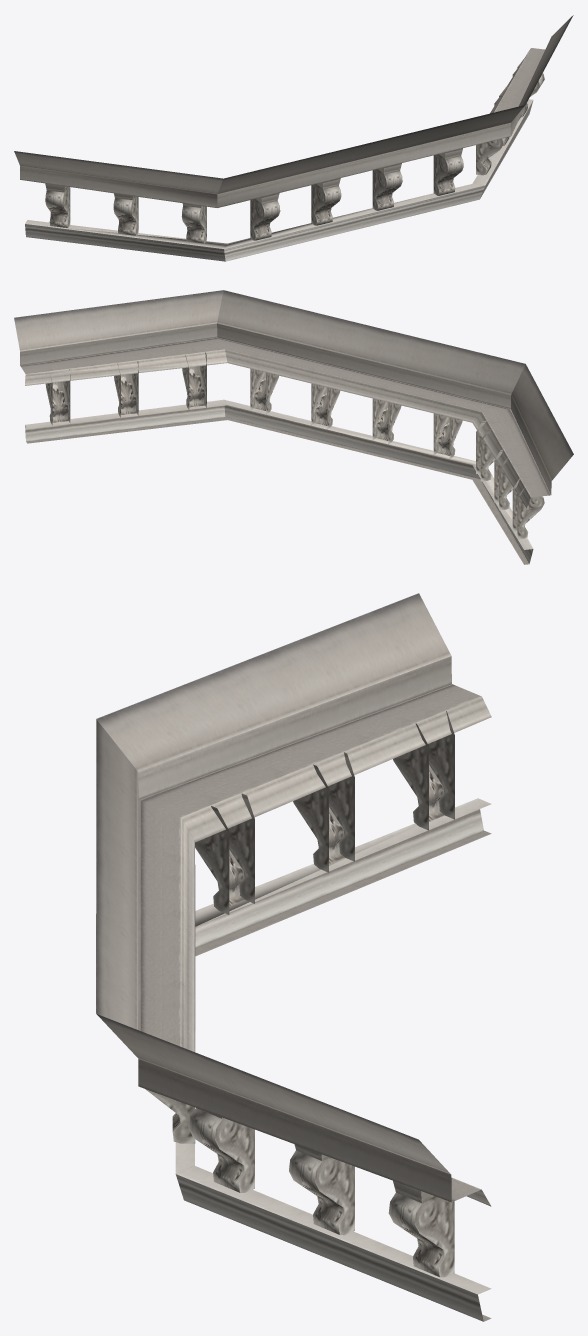
The model's file is WallRooflineBowWindowB.fbx.
The picture shows the model from 3 angles, top to bottom: view 1: azimuth 30°, elevation 25°; view 2: azimuth 150°, elevation 25°; view 3: azimuth 270°, elevation 25°; orthographic projection. The views are drawn at different scales.
Parts seen in each view (by area): view 1: WallRooflineBowWindowB; view 2: WallRooflineBowWindowB; view 3: WallRooflineBowWindowB.
Part boxes in pixels (x1=…): WallRooflineBowWindowB: x1=14, y1=15, x2=573, y2=261; WallRooflineBowWindowB: x1=14, y1=290, x2=573, y2=564; WallRooflineBowWindowB: x1=96, y1=593, x2=491, y2=1321.
Size of the model in its own units: 458 by 81.96 by 140.
